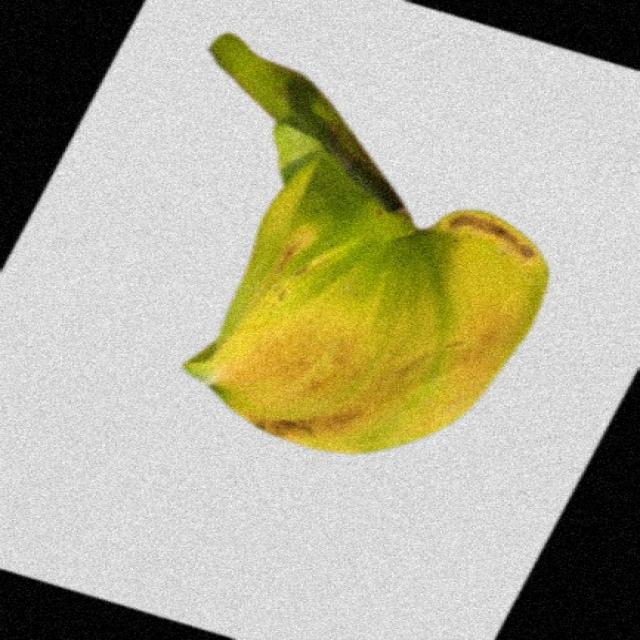daun berpenyakit karat: (183, 34, 546, 452)
